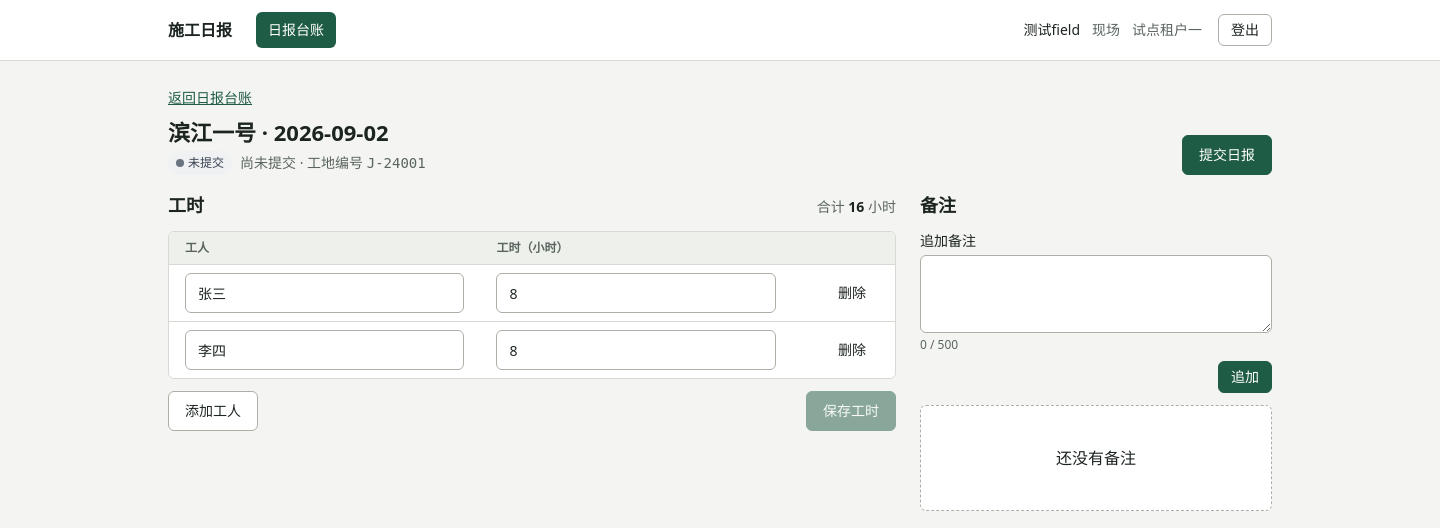
it: ReportDetailPage › saves crew edits and validates negative hours locally
Replace the text in the number field named "第 1 行工时" with "-1": (636, 293) [496,273,776,313]
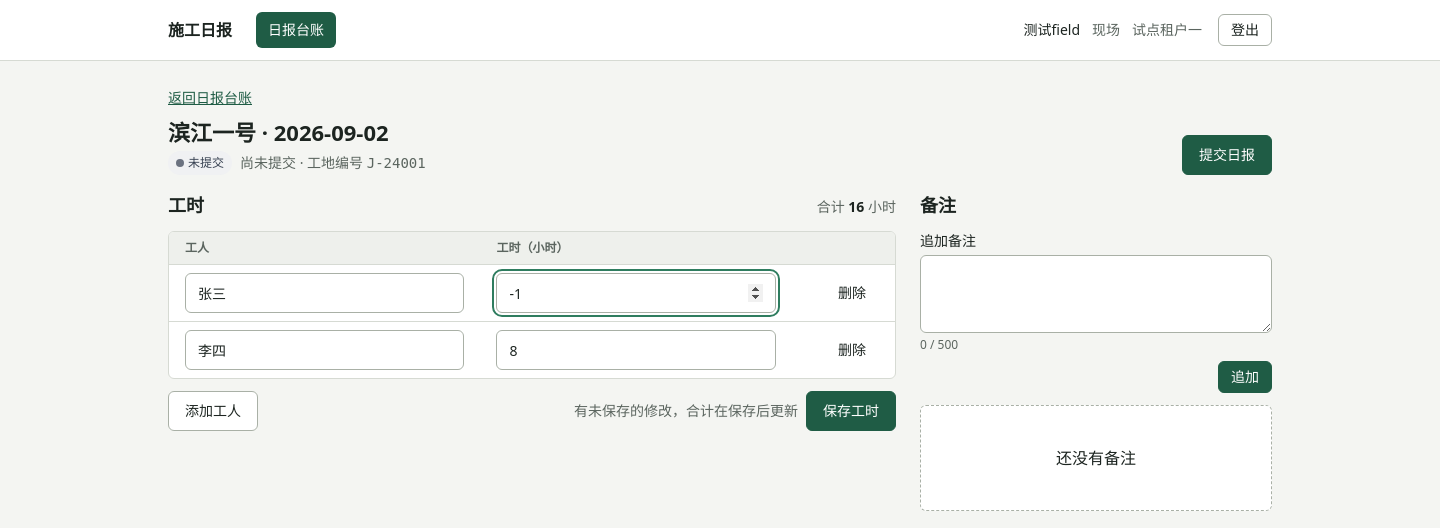
Click the button "保存工时": (851, 411) [806,391,896,431]
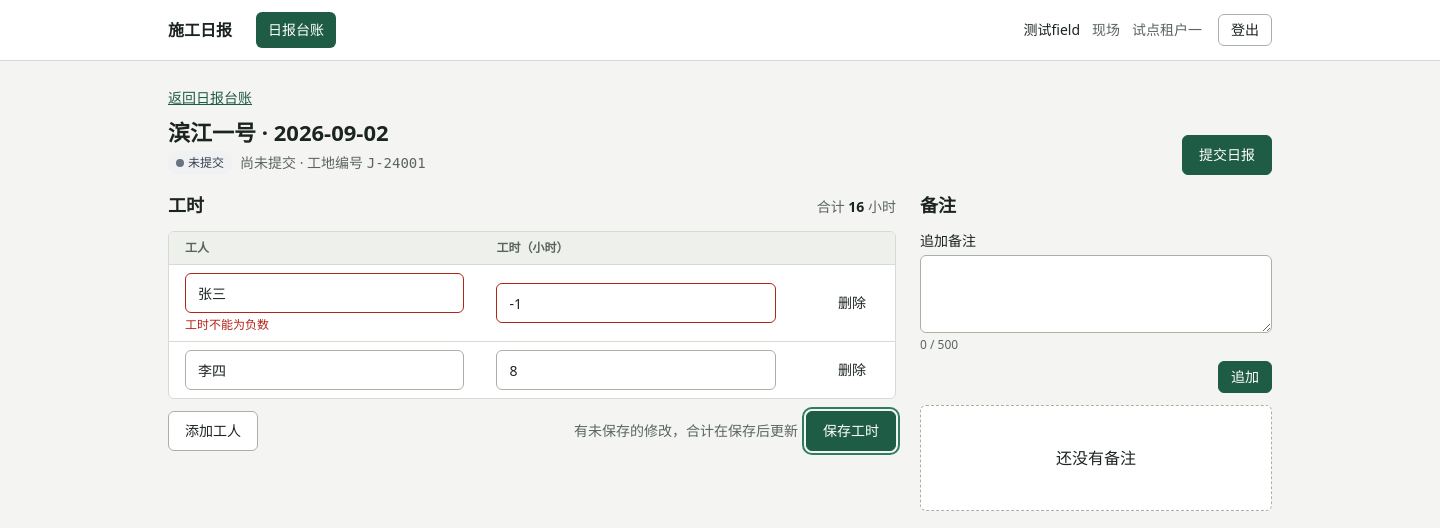
Expected: the text "工时不能为负数" is shown, [185,316,269,333]
Replace the text in the number field named "第 1 行工时" with "9": (636, 303) [496,283,776,323]
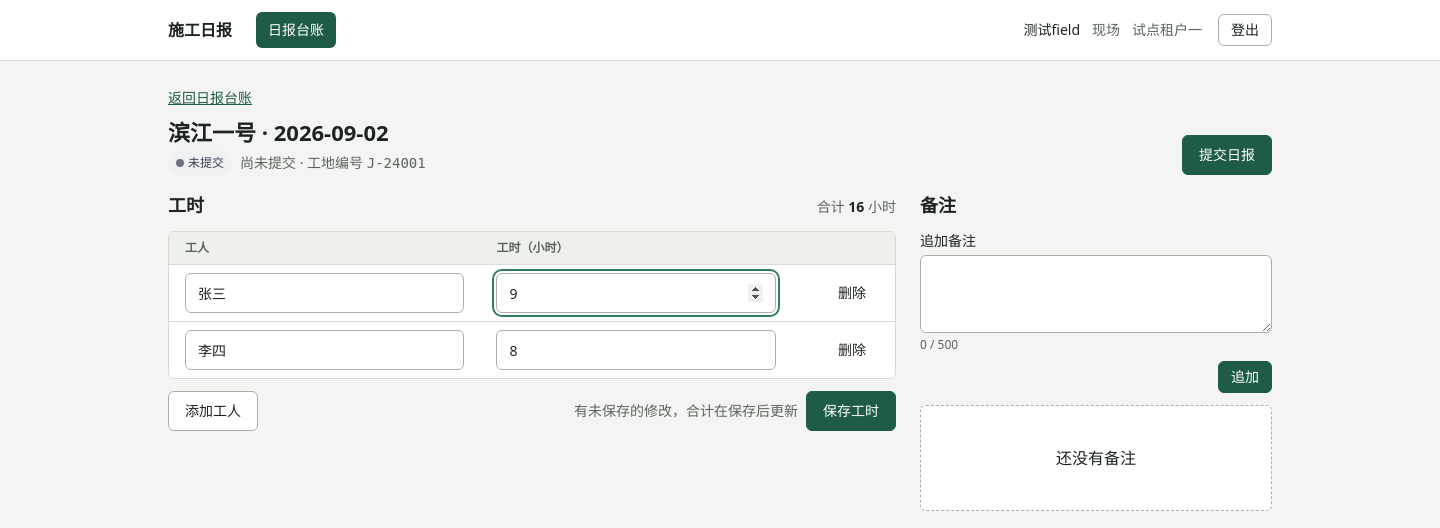
Click the button "保存工时": (851, 411) [806,391,896,431]
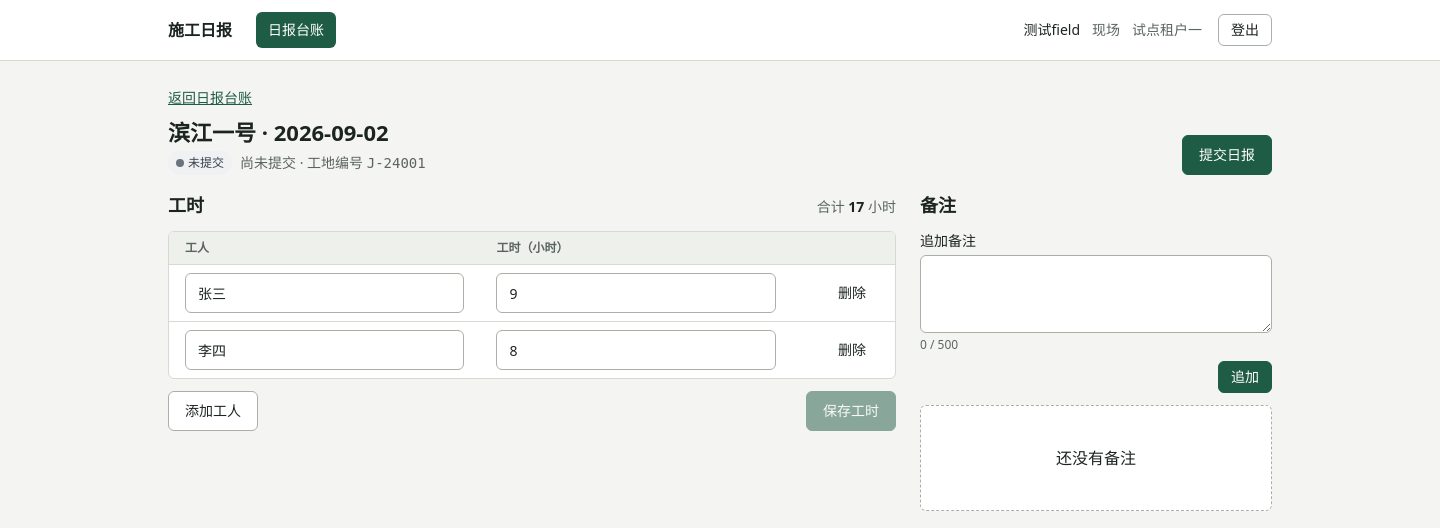
Expected: the text "17" is shown, [848,197,864,216]
